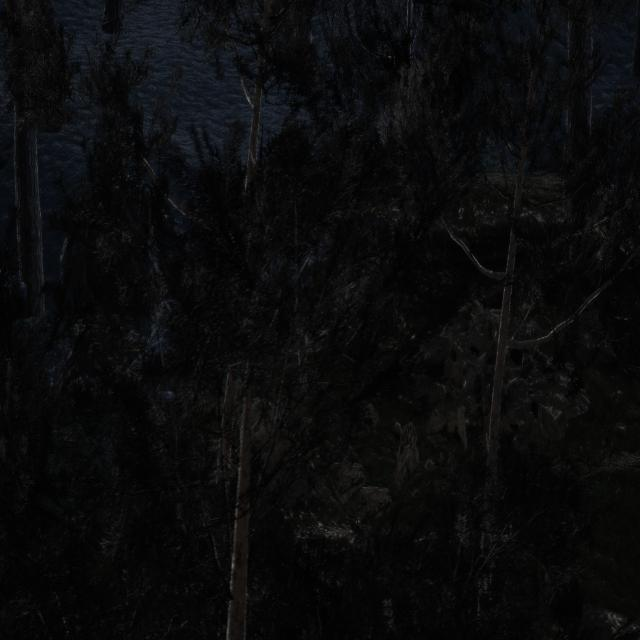Human: (266, 291, 286, 368)
